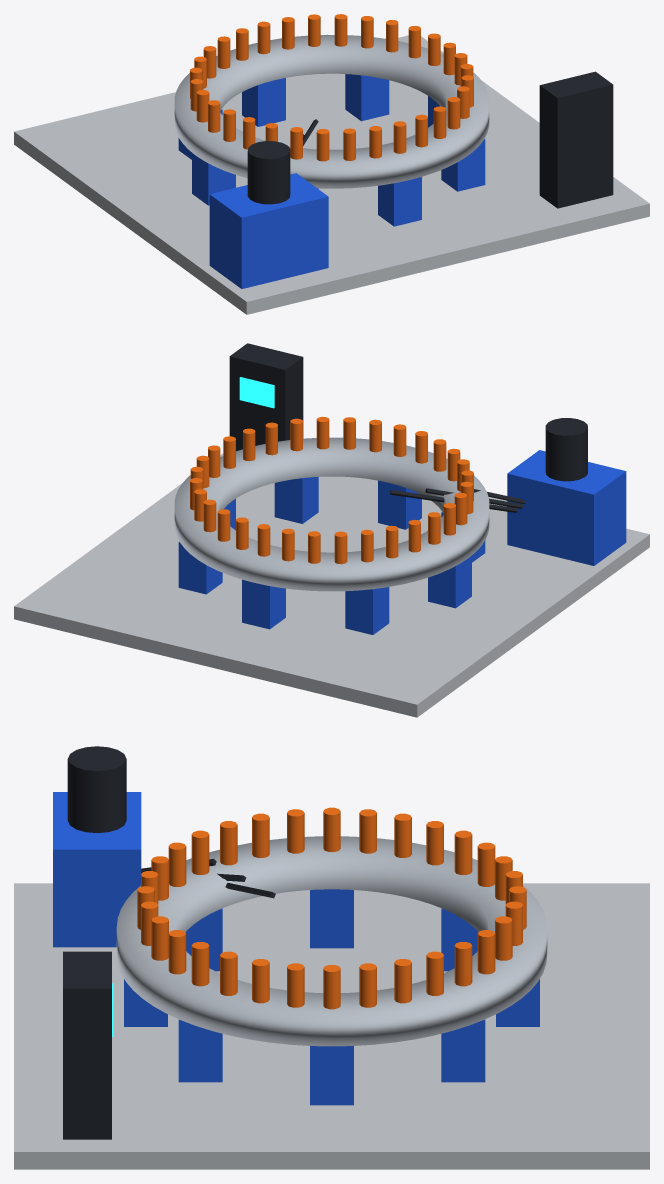
The picture shows the model from 3 angles, top to bottom: view 1: azimuth 30°, elevation 25°; view 2: azimuth 150°, elevation 25°; view 3: azimuth 270°, elevation 25°; orthographic projection. The views are drawn at different scales.
Size of the model in its own units: 6.5 by 2 by 6.5.
